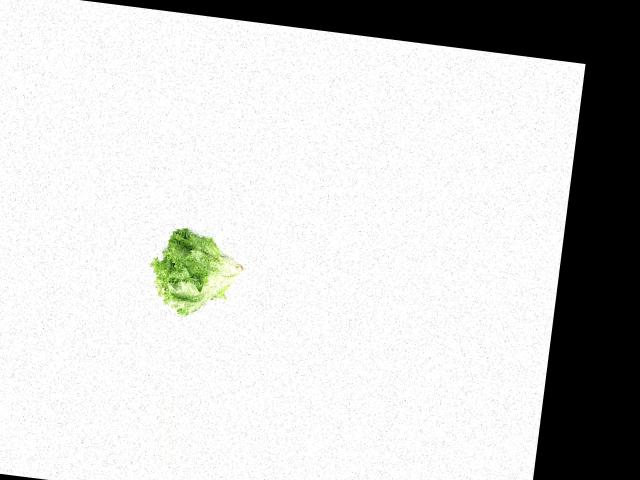lettuce: (146, 223, 249, 325)
